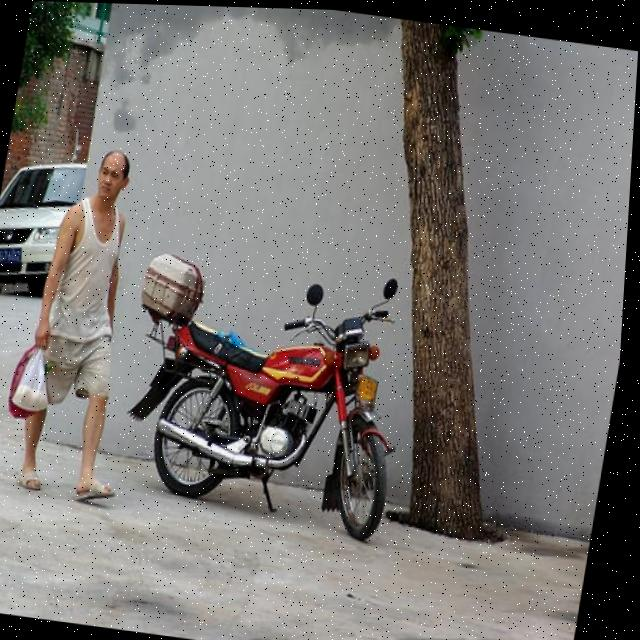car: (0, 145, 97, 303)
motorcycle: (100, 237, 425, 542)
plate: (0, 241, 25, 268)
